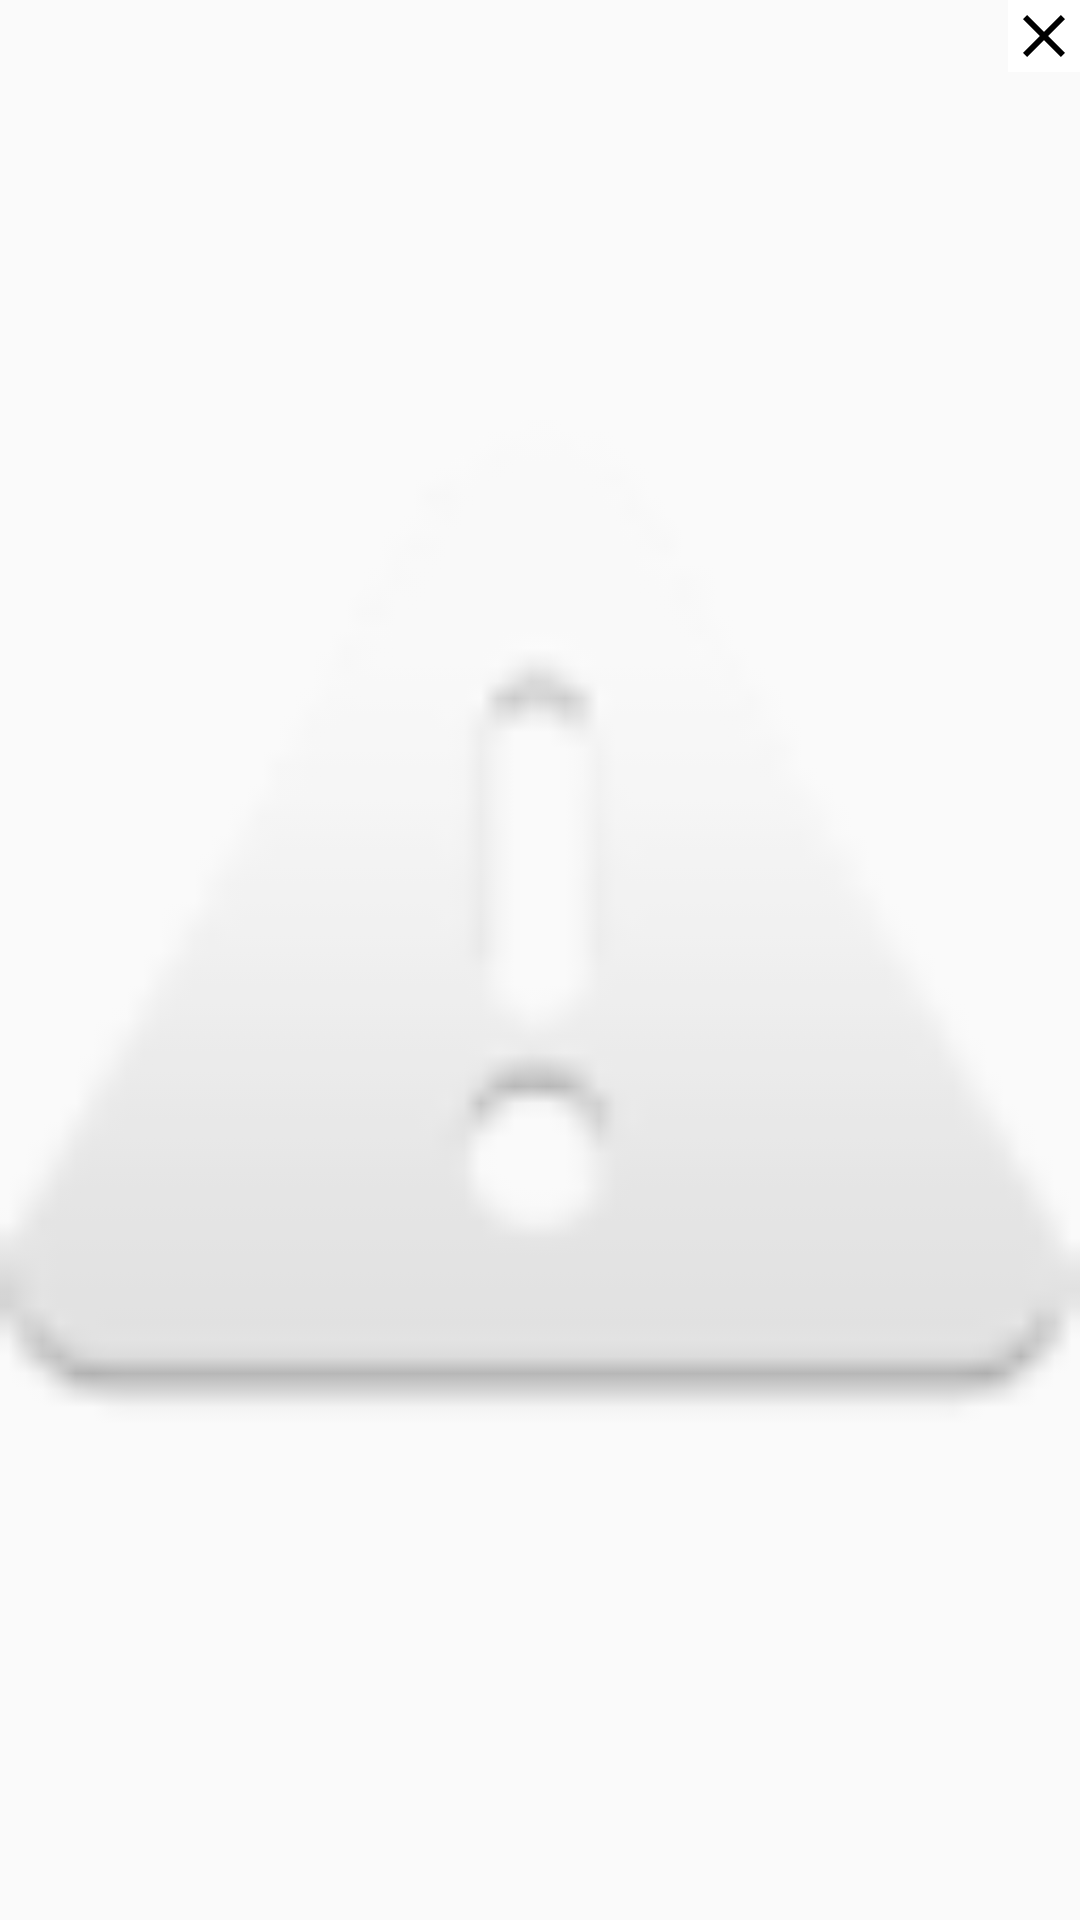

Named icons in this screenshot (1080 x 1920) and their bounding boxes, [x1,y1,x2,y2]:
close: [1023,15,1065,57]
